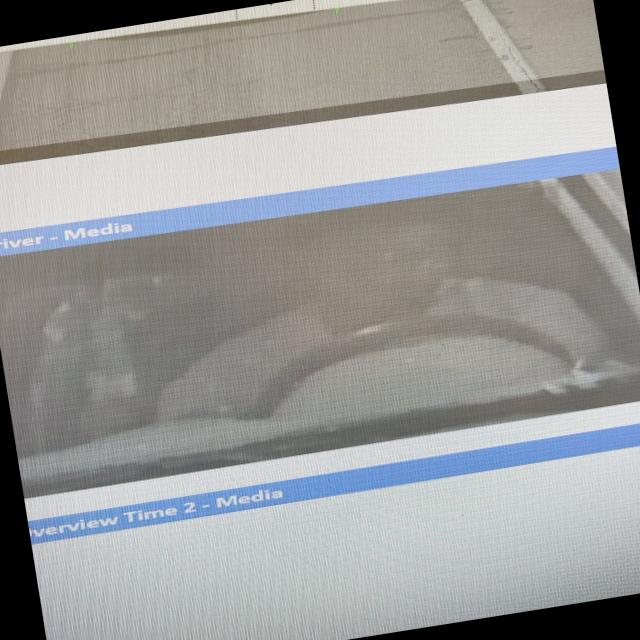person_without_seatbelt: (145, 177, 640, 466)
